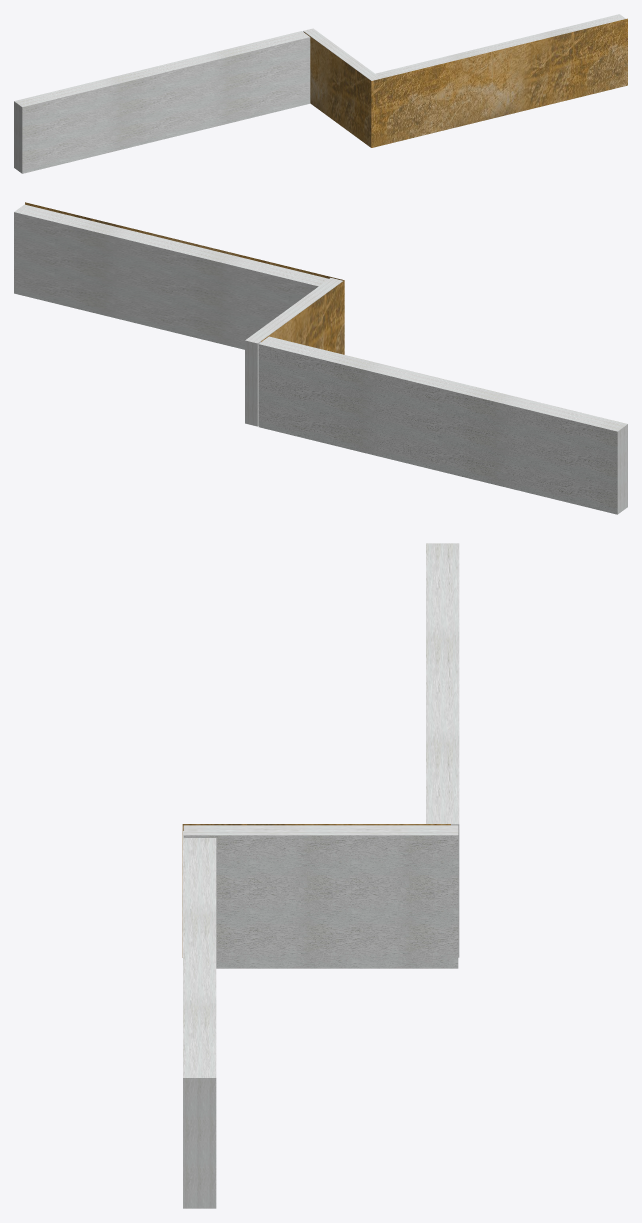
The model's file is muroA.obj.
3 renders of one model, top to bottom at view 1: azimuth 30°, elevation 25°; view 2: azimuth 150°, elevation 25°; view 3: azimuth 270°, elevation 25°, orthographic. The views are drawn at different scales.
Parts seen in each view (by area): view 1: muroA:Mesh6453Model1; view 2: muroA:Mesh6453Model1; view 3: muroA:Mesh6453Model1.
Part boxes in pixels (<box>): muroA:Mesh6453Model1: <box>14,14,627,173</box>; muroA:Mesh6453Model1: <box>14,202,627,514</box>; muroA:Mesh6453Model1: <box>182,543,459,1208</box>.
Bounding box in the file's own units: 6.8 × 0.8 × 1.5.
2 materials, 2 textured.
